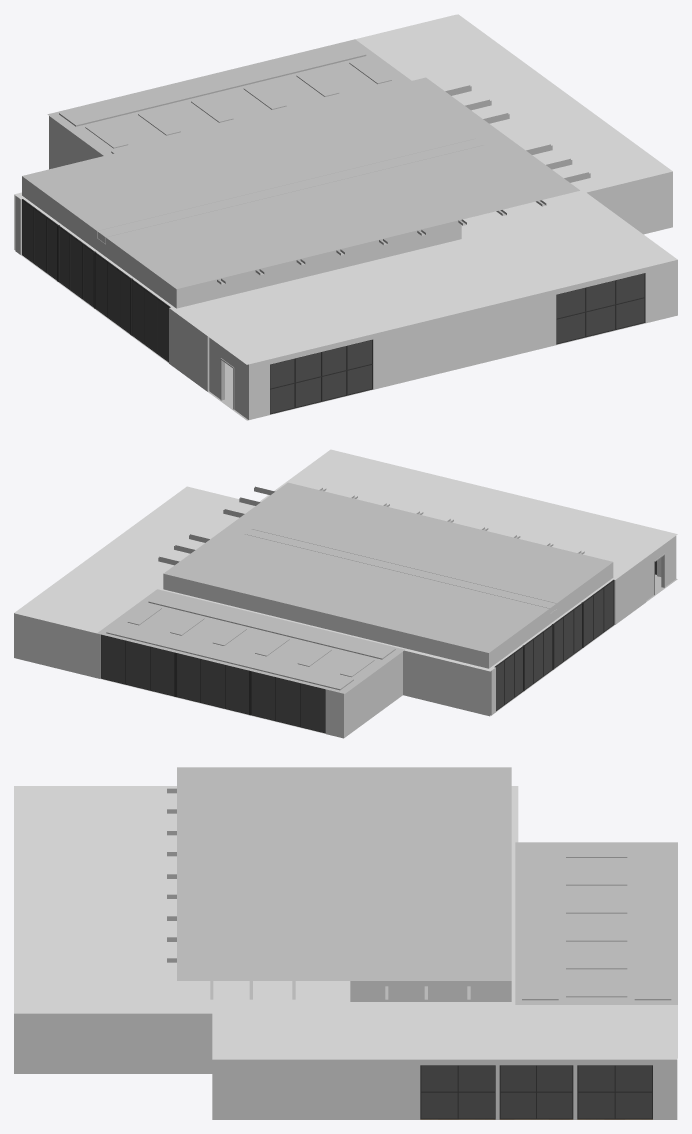
File: main structure.FBX
The picture shows the model from 3 angles, top to bottom: view 1: azimuth 30°, elevation 25°; view 2: azimuth 150°, elevation 25°; view 3: azimuth 270°, elevation 25°; orthographic projection. The views are drawn at different scales.
Visible parts, largest first — view 1: main structure; view 2: main structure; view 3: main structure.
Boxes of the visible parts, x1,y1,x2,y2 form: main structure: [14, 14, 677, 420]; main structure: [14, 449, 677, 738]; main structure: [14, 767, 677, 1119].
Bounding box in the file's own units: 1020 × 1046 × 142.
